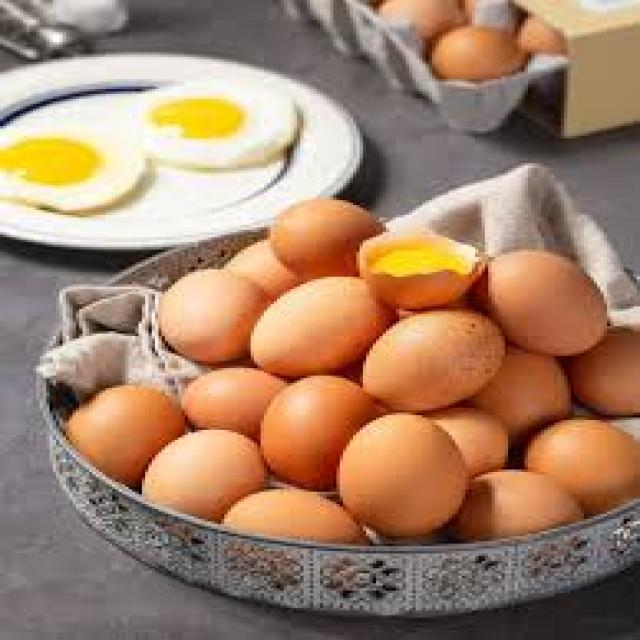egg: (341, 415, 473, 539), (366, 311, 505, 413), (257, 277, 396, 378), (492, 252, 604, 357), (158, 269, 267, 364)
